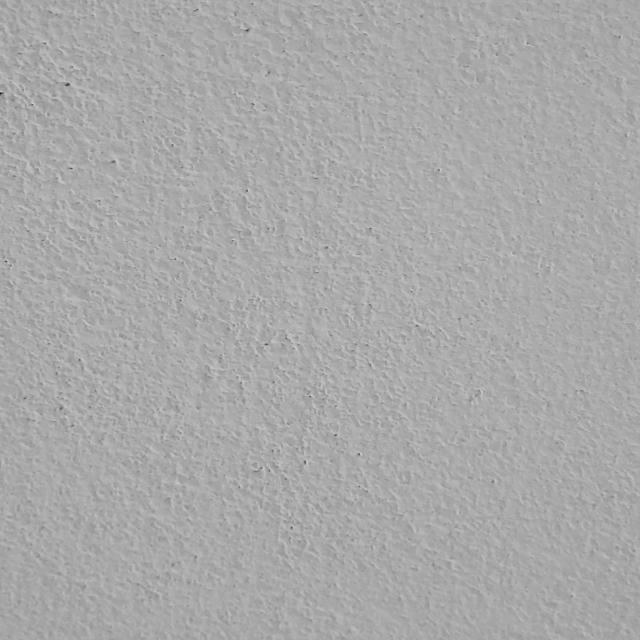rough and patchy surface: (12, 6, 636, 636)
